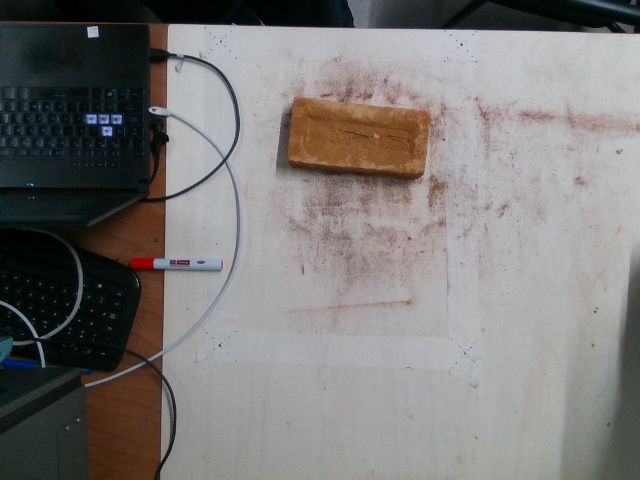brick: (289, 98, 429, 176)
